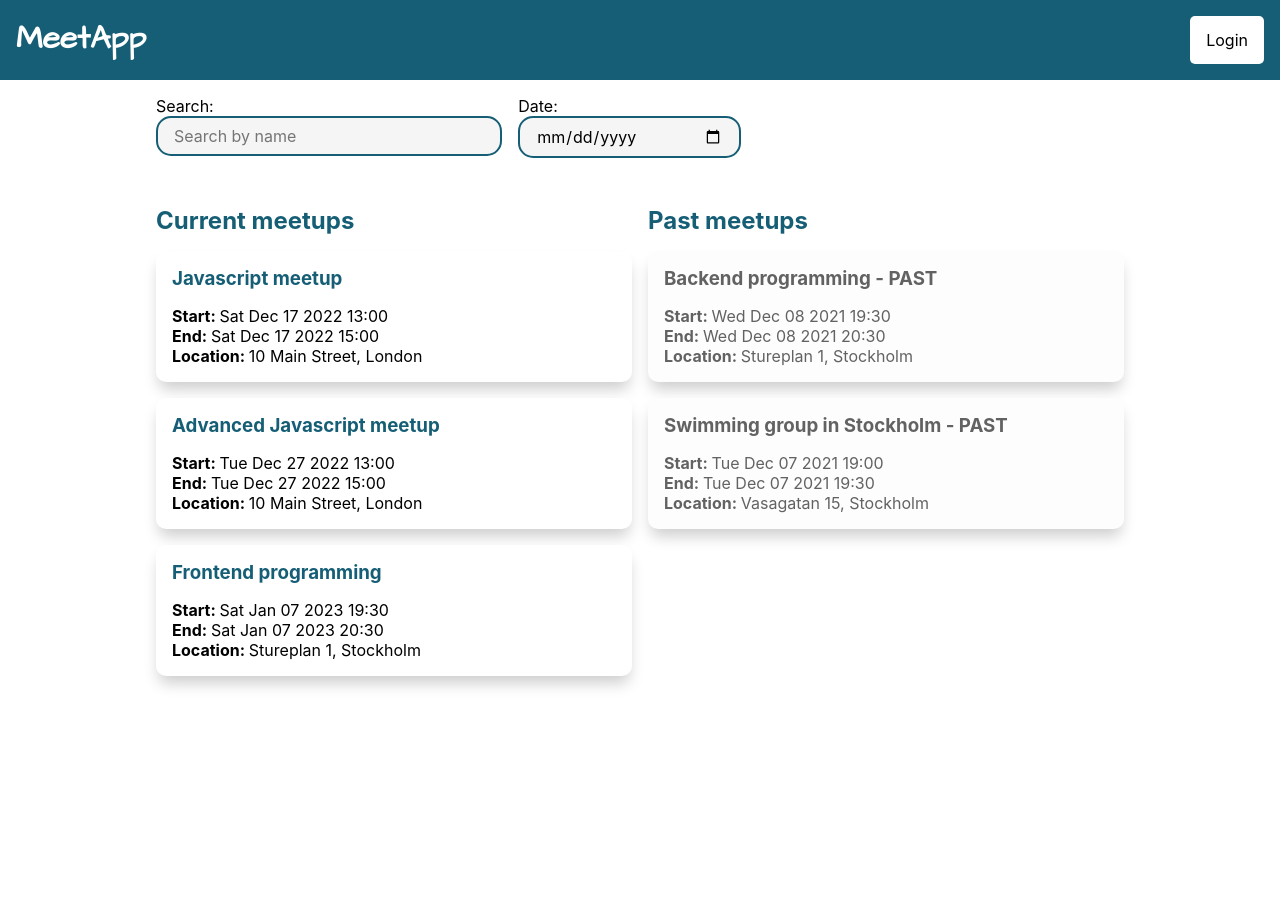
Test case: Home integration tests › renders an add meetup button on main page when logged in
Expected: the button "+" is not shown
Step 1. Click the button "Login" → x=1227, y=40, box [1190,16,1264,64]
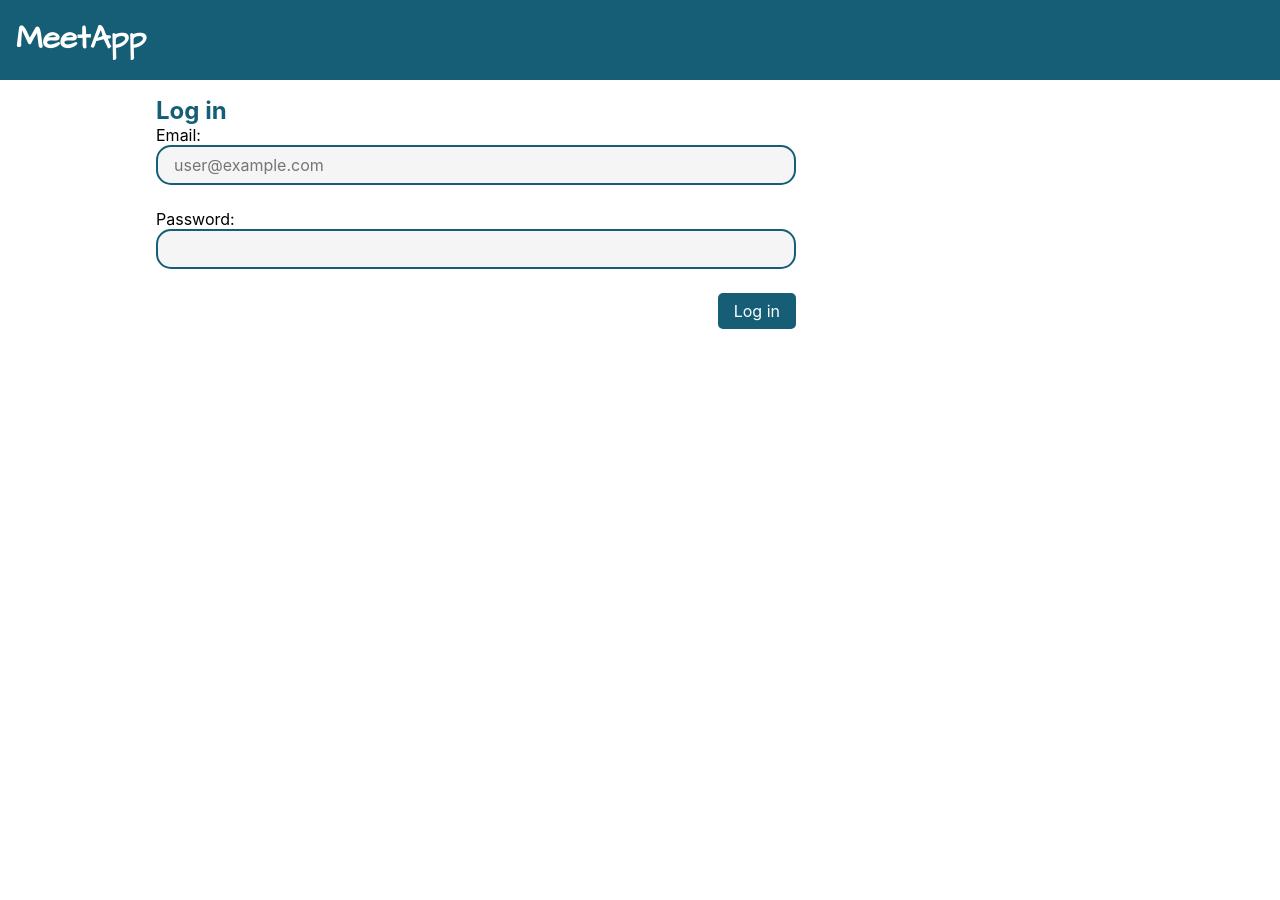
Step 2. Type "hannah@gmail.com" into the field labelled "Email:" → x=476, y=165, box [156,145,796,185]
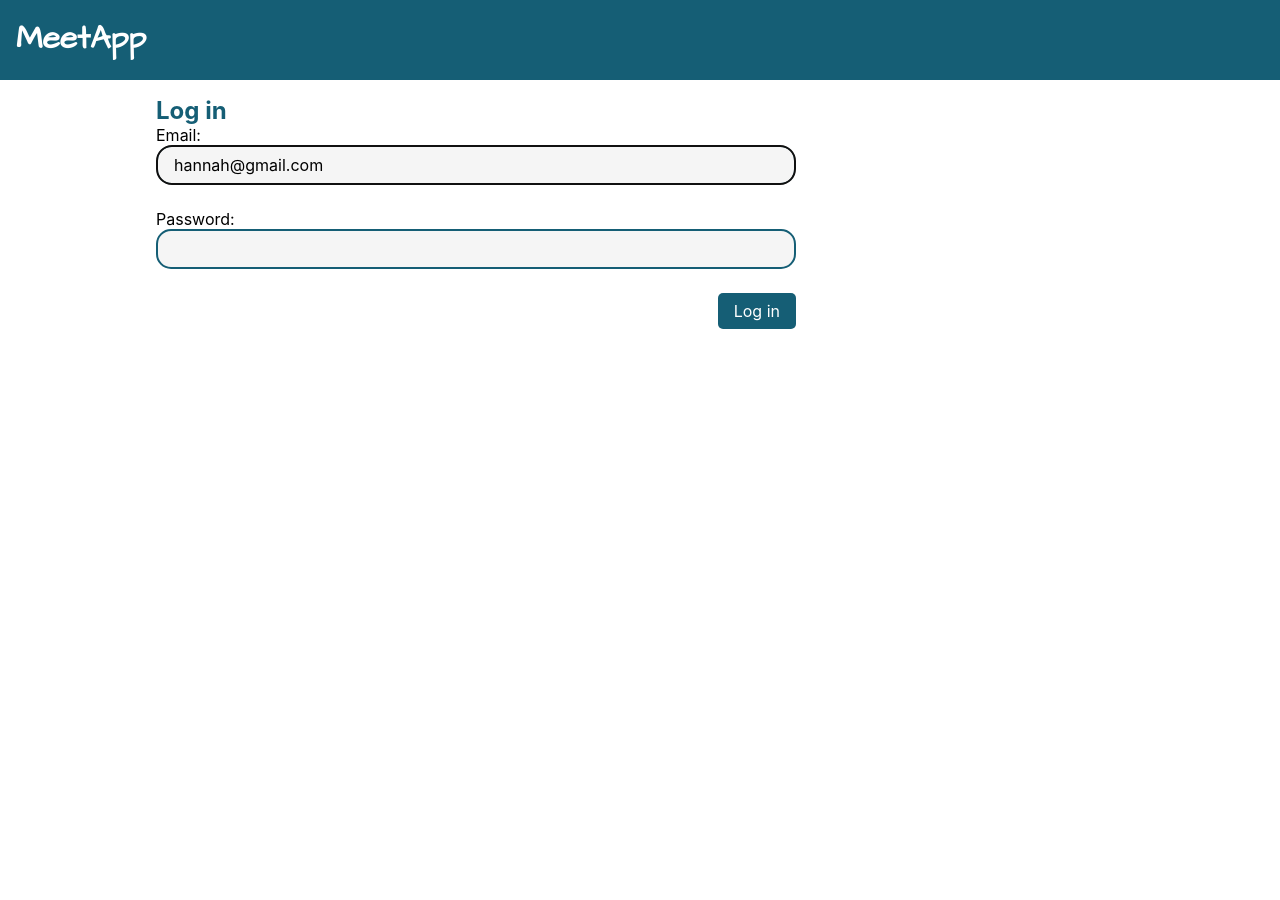
Step 3. Type "hannahIsBest" into the password field labelled "Password:" → x=476, y=249, box [156,229,796,269]
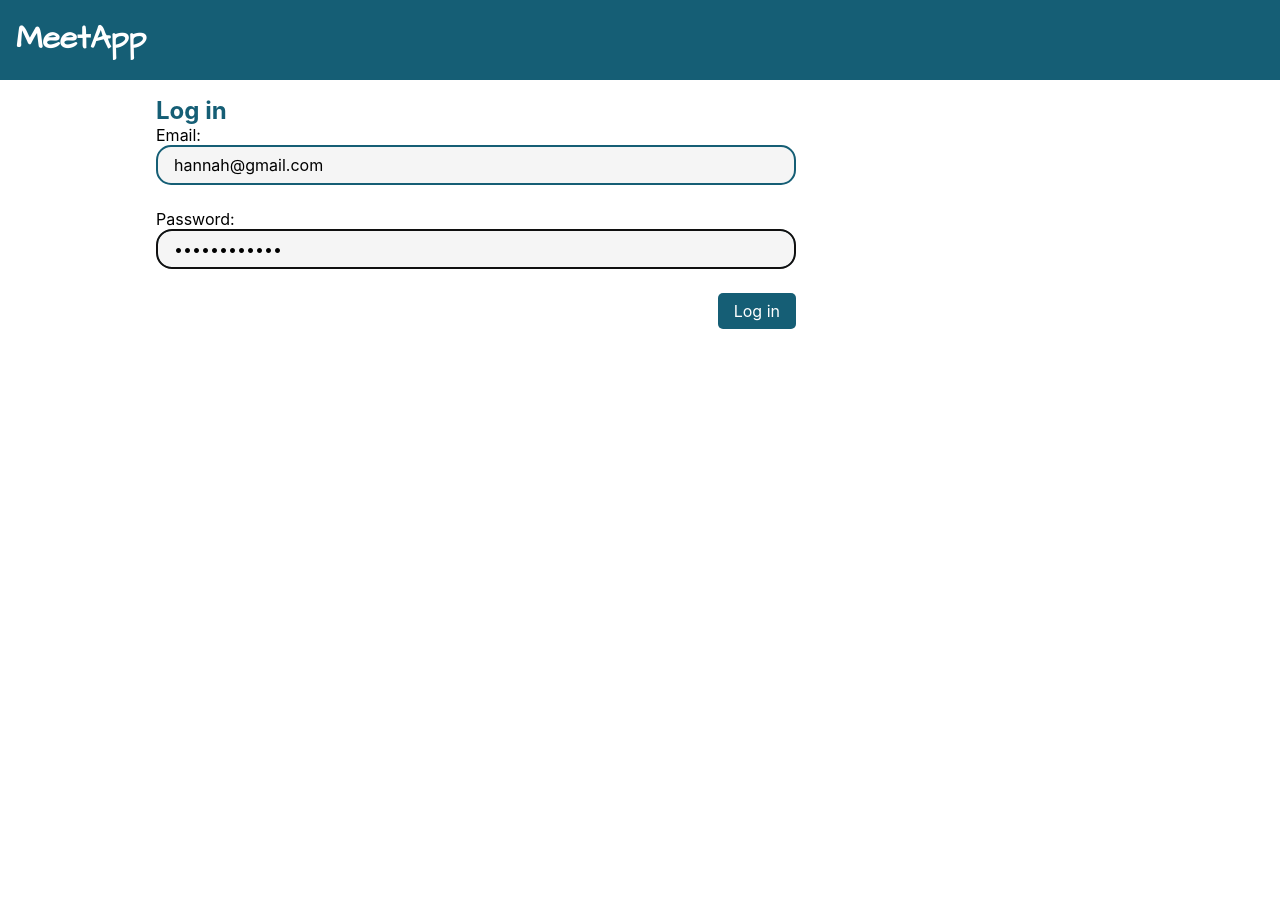
Step 4. Click the button with test id "login-btn" → x=757, y=311, box [718,293,796,329]
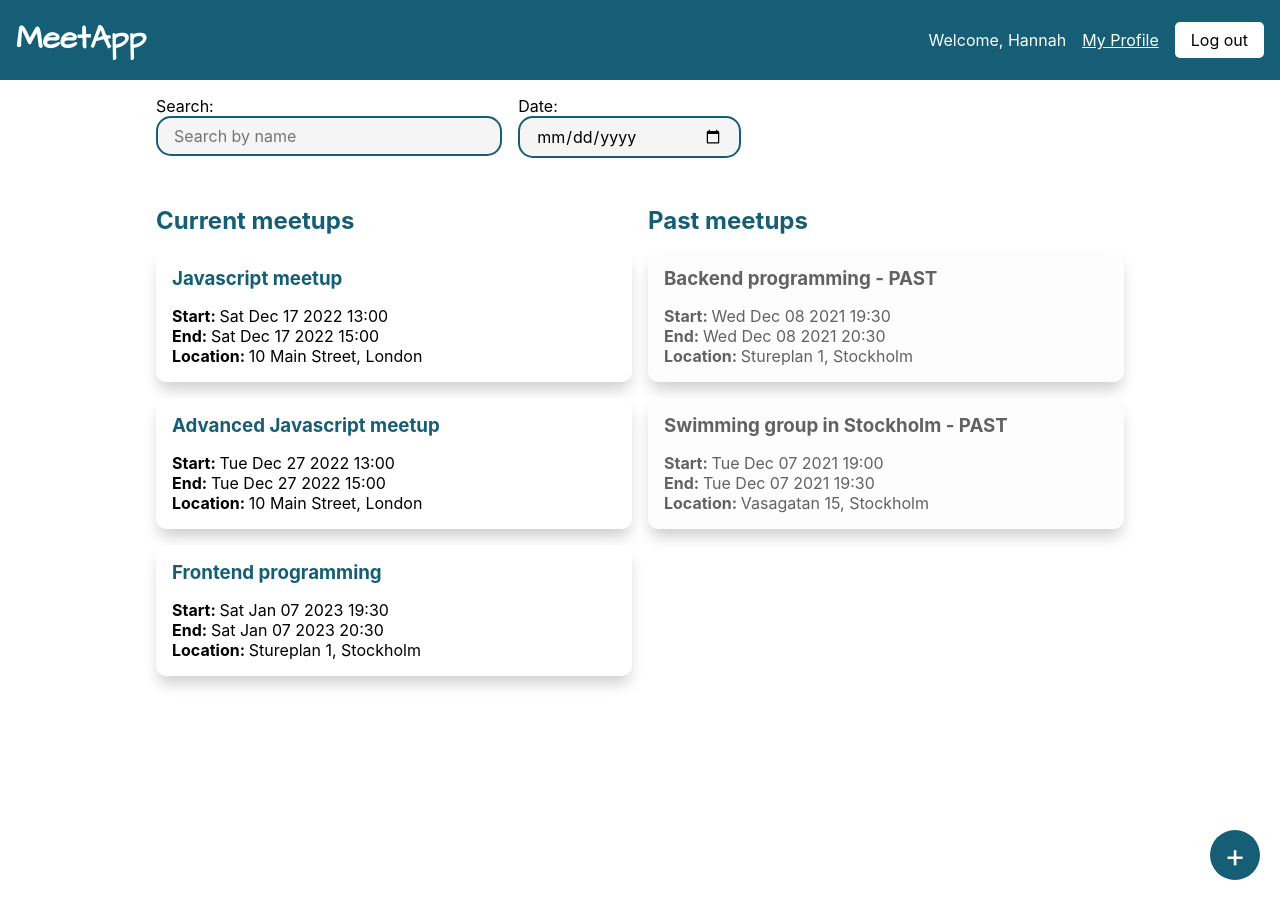
Expected: the button "+" is shown, [1210,830,1260,880]
